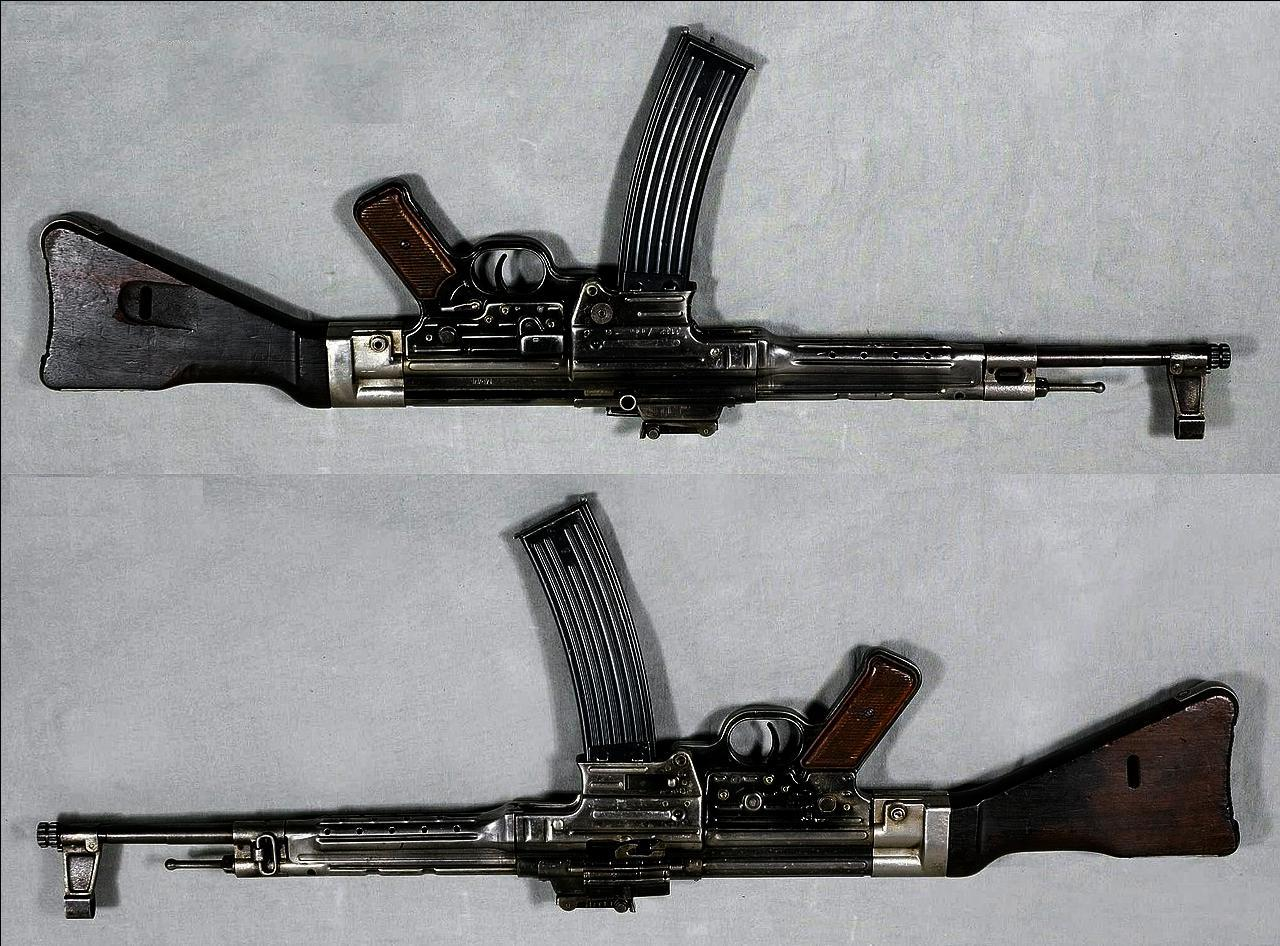gun: (27, 0, 1239, 458), (40, 502, 1242, 926)
